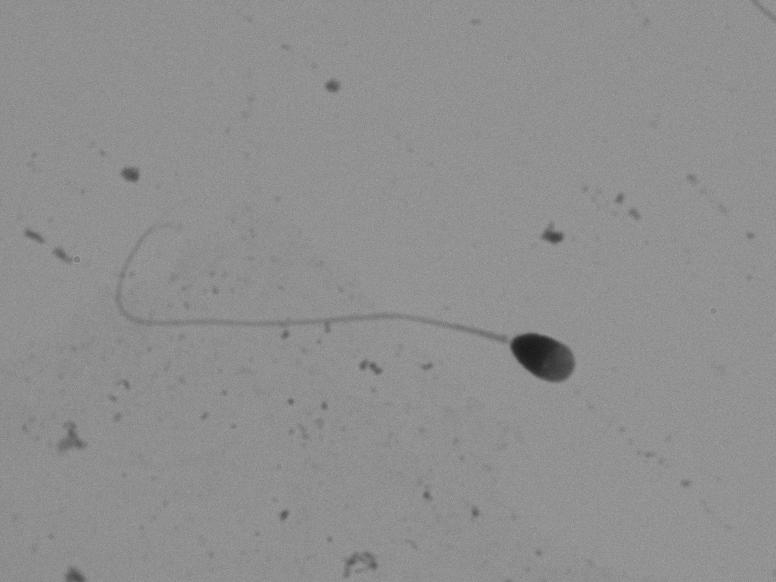Normal: (108, 207, 622, 423)
